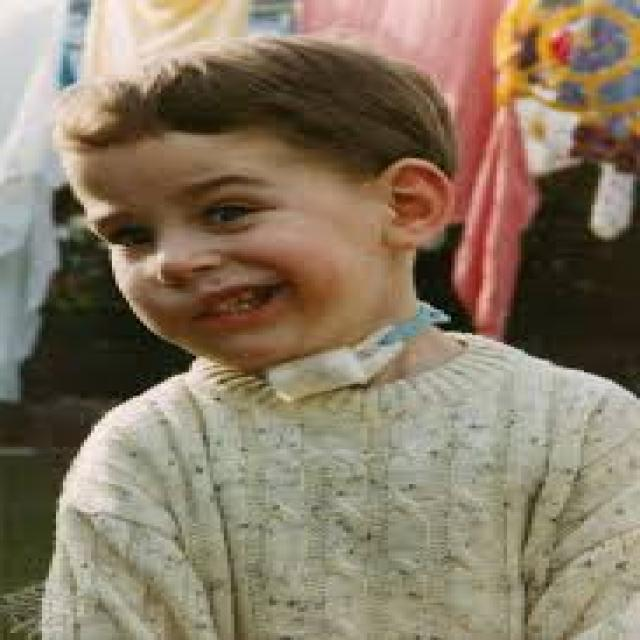stroke_face: (60, 61, 428, 378)
